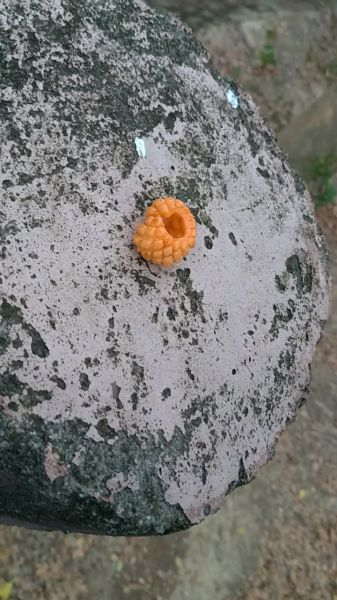eggs: (128, 191, 203, 269)
